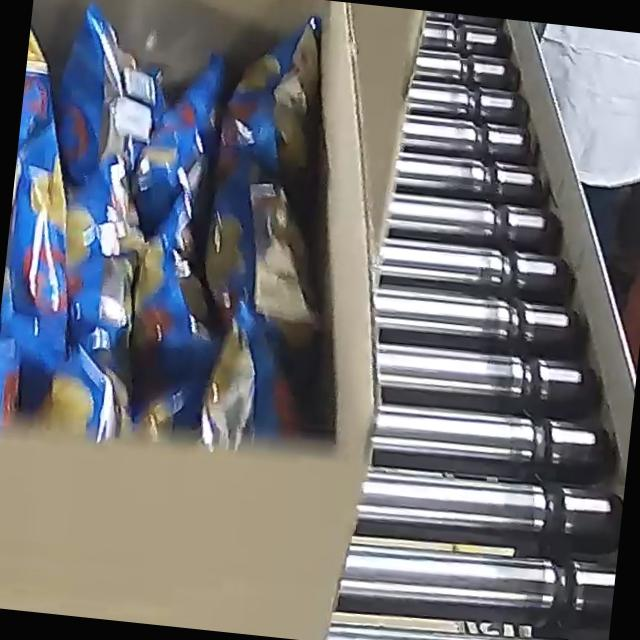paprika: (0, 0, 355, 464)
